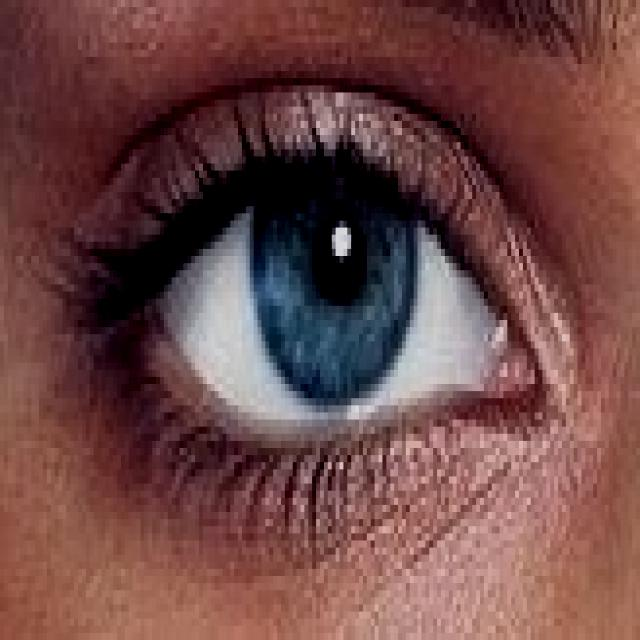Normal: (44, 116, 545, 546)
